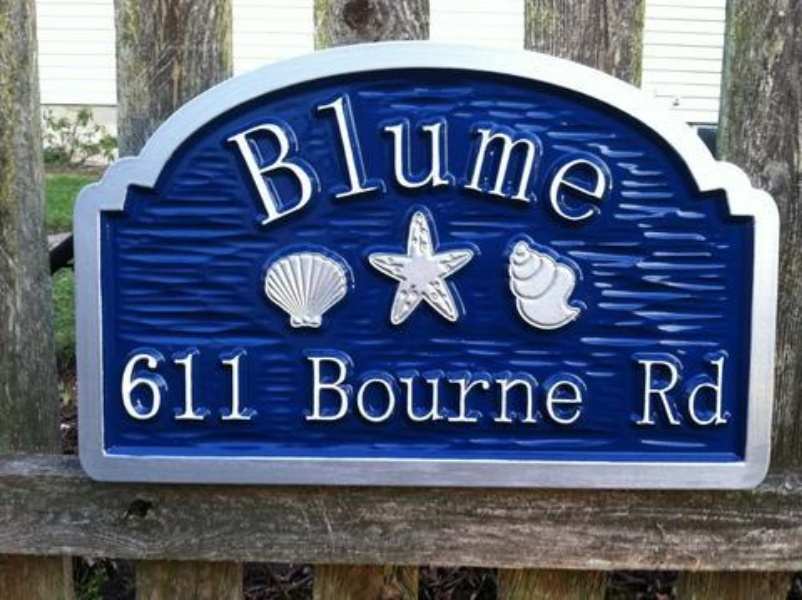text: (593, 92, 609, 224), (241, 92, 256, 224), (257, 92, 272, 224), (273, 92, 288, 224), (289, 92, 304, 224), (305, 92, 320, 224), (321, 92, 336, 224), (337, 92, 352, 224), (353, 92, 368, 224), (369, 92, 384, 224), (385, 92, 400, 224), (401, 92, 416, 224), (417, 92, 432, 224), (433, 92, 448, 224), (449, 92, 464, 224), (465, 92, 480, 224), (481, 92, 496, 224), (497, 92, 512, 224), (513, 92, 528, 224), (529, 92, 544, 224), (545, 92, 560, 224), (561, 92, 576, 224), (577, 92, 592, 224), (226, 92, 240, 224), (641, 355, 656, 428), (657, 355, 672, 428), (673, 355, 688, 428), (689, 355, 704, 428), (705, 355, 720, 428), (321, 356, 336, 427), (337, 356, 352, 427), (353, 356, 368, 427), (369, 356, 384, 427), (385, 356, 400, 427), (401, 356, 416, 427), (417, 356, 432, 427), (433, 356, 448, 427), (449, 356, 464, 427), (465, 356, 480, 427), (481, 356, 496, 427), (497, 356, 512, 427), (513, 356, 528, 427), (529, 356, 544, 427), (545, 356, 560, 427), (561, 356, 576, 427), (129, 353, 144, 422), (145, 353, 160, 422), (161, 353, 176, 422), (177, 353, 192, 422), (193, 353, 208, 422), (209, 353, 224, 422), (225, 353, 240, 422), (306, 356, 320, 427), (721, 355, 731, 428), (577, 356, 587, 427), (241, 353, 251, 422), (121, 353, 128, 422), (635, 355, 640, 428)
